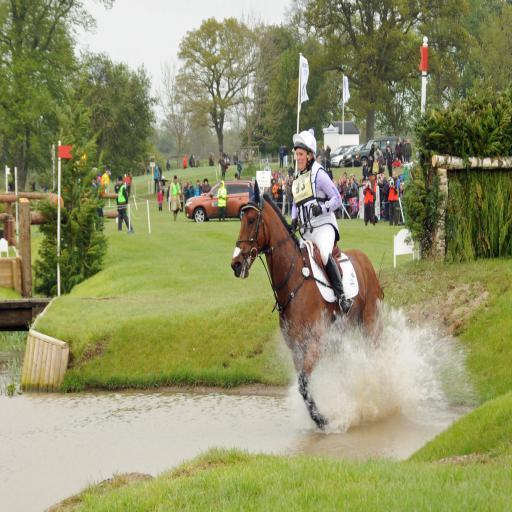horse: (229, 178, 385, 432)
